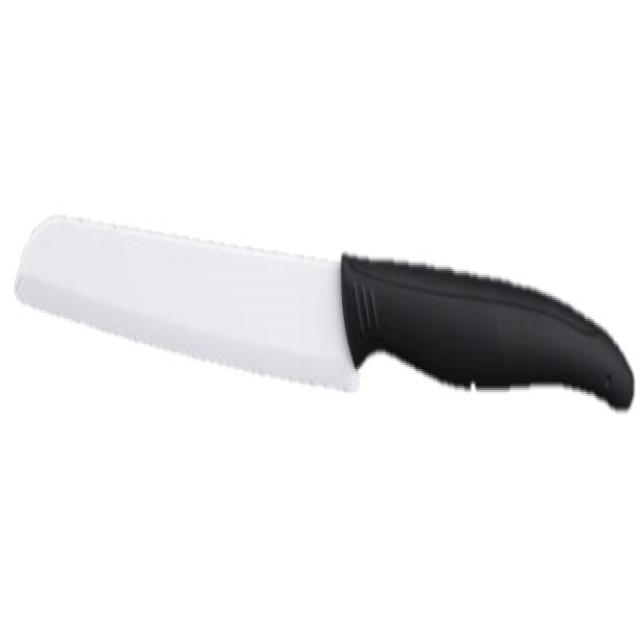knife: (12, 208, 638, 413)
